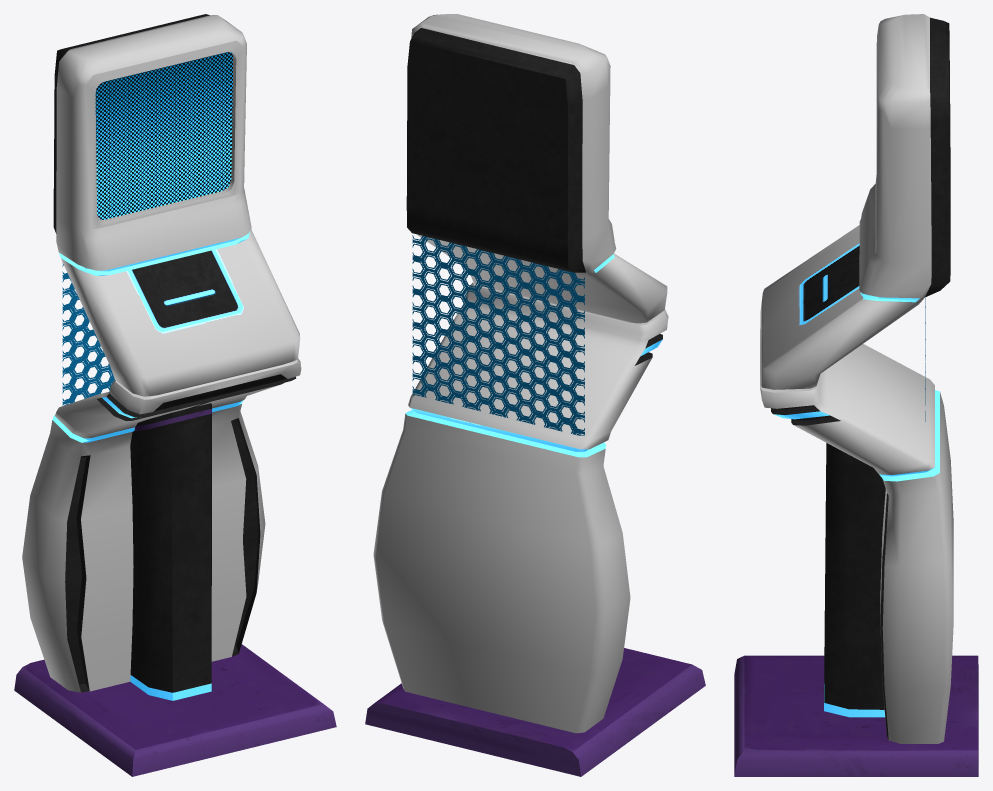
The model's file is Turnera LOW.fbx.
3 renders of one model, left to right at view 1: azimuth 30°, elevation 25°; view 2: azimuth 150°, elevation 25°; view 3: azimuth 270°, elevation 25°, orthographic. The views are drawn at different scales.
Parts seen in each view (by area): view 1: tiquetera; view 2: tiquetera; view 3: tiquetera.
Part boxes in pixels (bbox=[...]): tiquetera: bbox=[14, 14, 336, 776]; tiquetera: bbox=[365, 14, 705, 776]; tiquetera: bbox=[734, 14, 978, 776].
Size of the model in its own units: 52.93 by 150 by 49.07.
